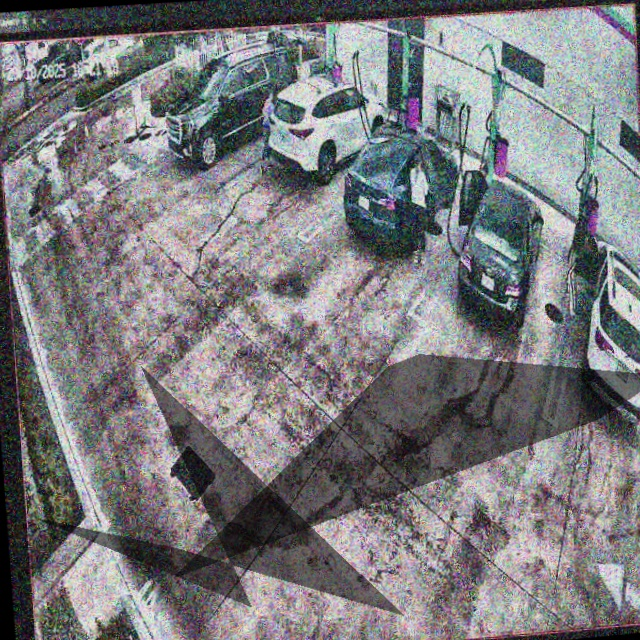Car: (161, 44, 303, 165), (340, 118, 461, 260), (456, 178, 549, 331), (266, 72, 388, 181)
